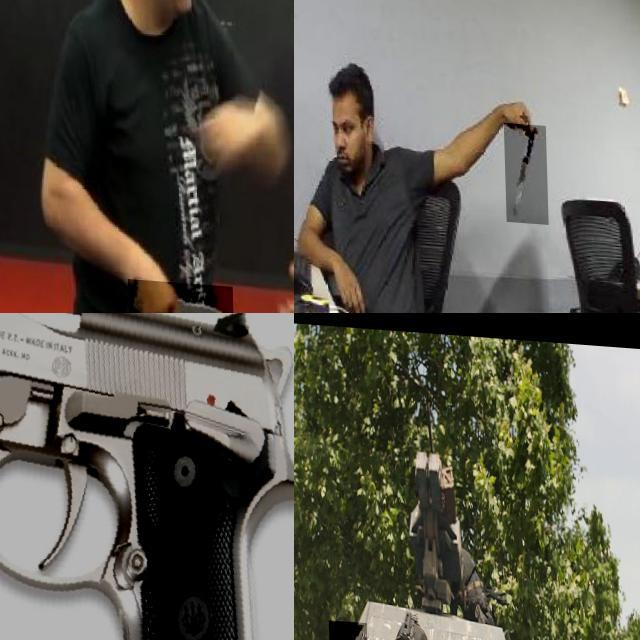-: (502, 118, 546, 220), (125, 276, 231, 313)
gun-knife-thesis - v11 Yolov5 augmented: (0, 313, 294, 640), (326, 617, 366, 640)
